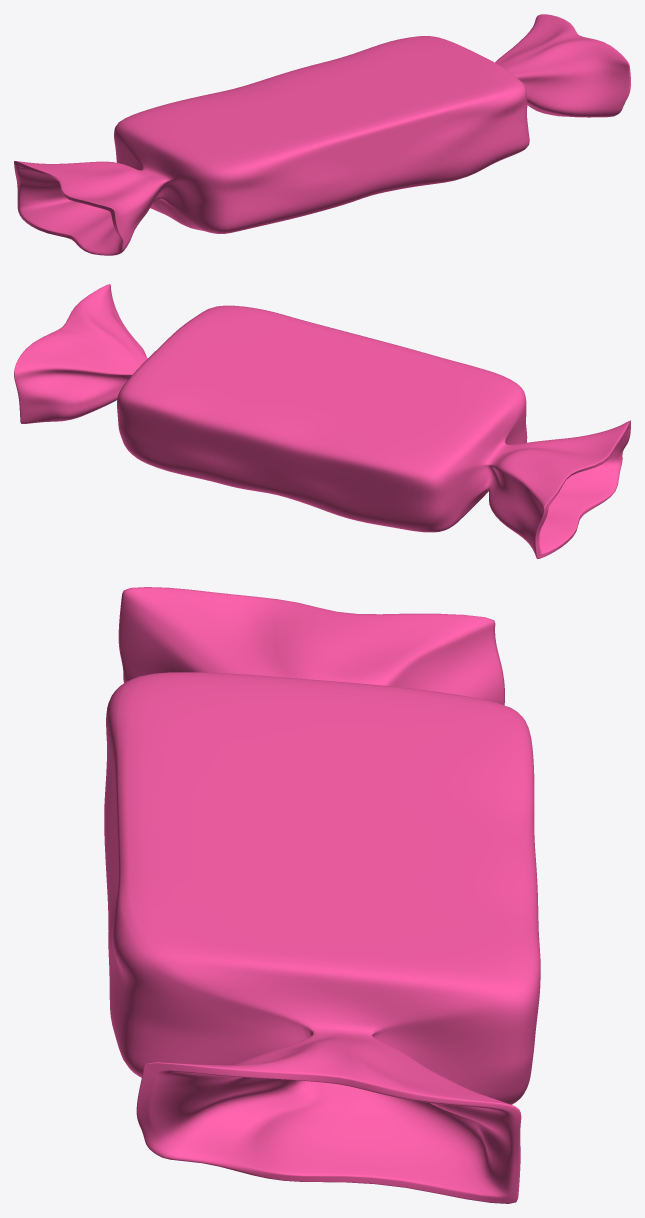
The model's file is candy_skill.fbx.
3 views of the same model, one above another, from view 1: azimuth 30°, elevation 25°; view 2: azimuth 150°, elevation 25°; view 3: azimuth 270°, elevation 25° (orthographic). The views are drawn at different scales.
Parts seen in each view (by area): view 1: Cube.007; view 2: Cube.007; view 3: Cube.007.
Part boxes in pixels (x1,y1,x2,y2): Cube.007: [14, 14, 630, 255]; Cube.007: [14, 284, 630, 558]; Cube.007: [104, 587, 540, 1203].
Size of the model in its own units: 352 by 60.06 by 124.
